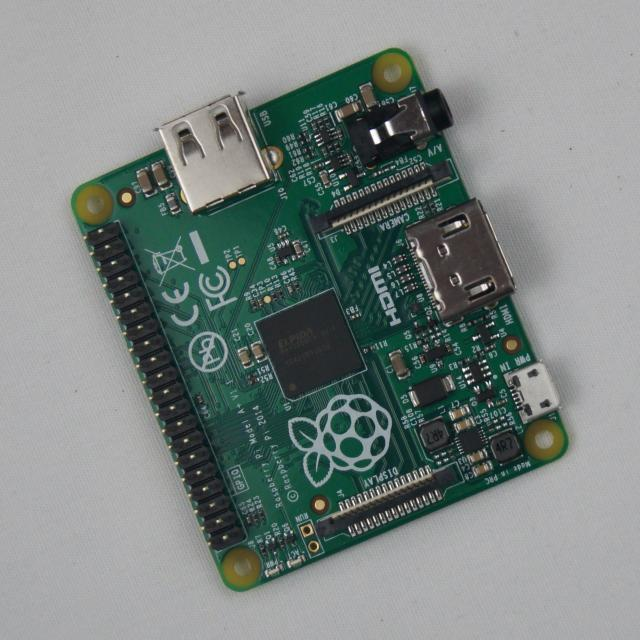Raspberry-Pi-1-A-: (73, 49, 569, 592)
